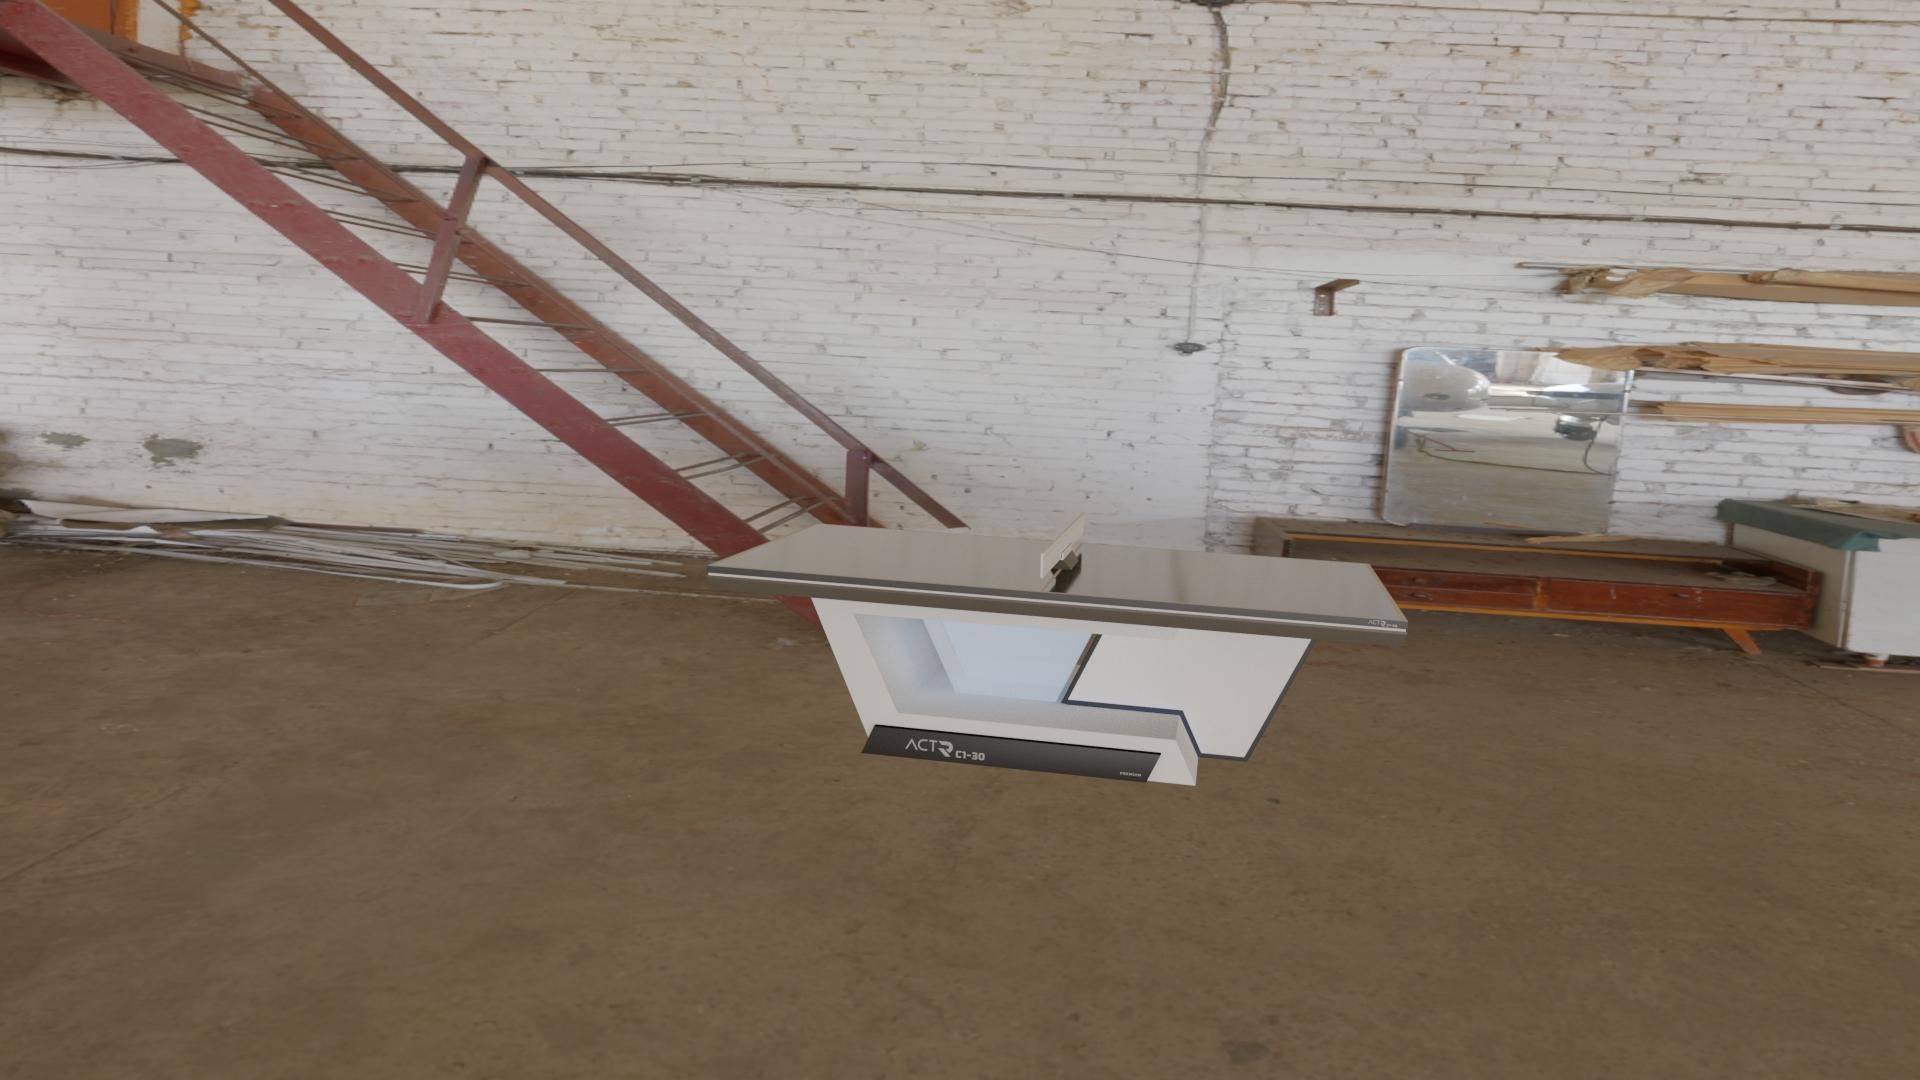table: (713, 524, 1402, 620)
